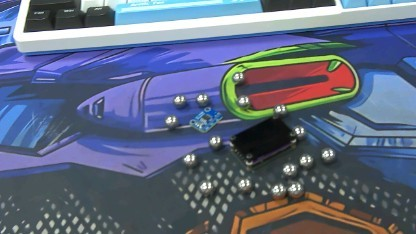ironball: (319, 145, 338, 164), (269, 100, 288, 118), (285, 181, 304, 198), (269, 180, 285, 200), (234, 177, 251, 195), (180, 151, 200, 166), (192, 91, 208, 109), (298, 152, 314, 169), (279, 162, 299, 175), (228, 69, 244, 85), (291, 123, 306, 138), (199, 179, 213, 194), (170, 94, 184, 107), (209, 133, 220, 148), (235, 94, 248, 106), (163, 114, 175, 125)
